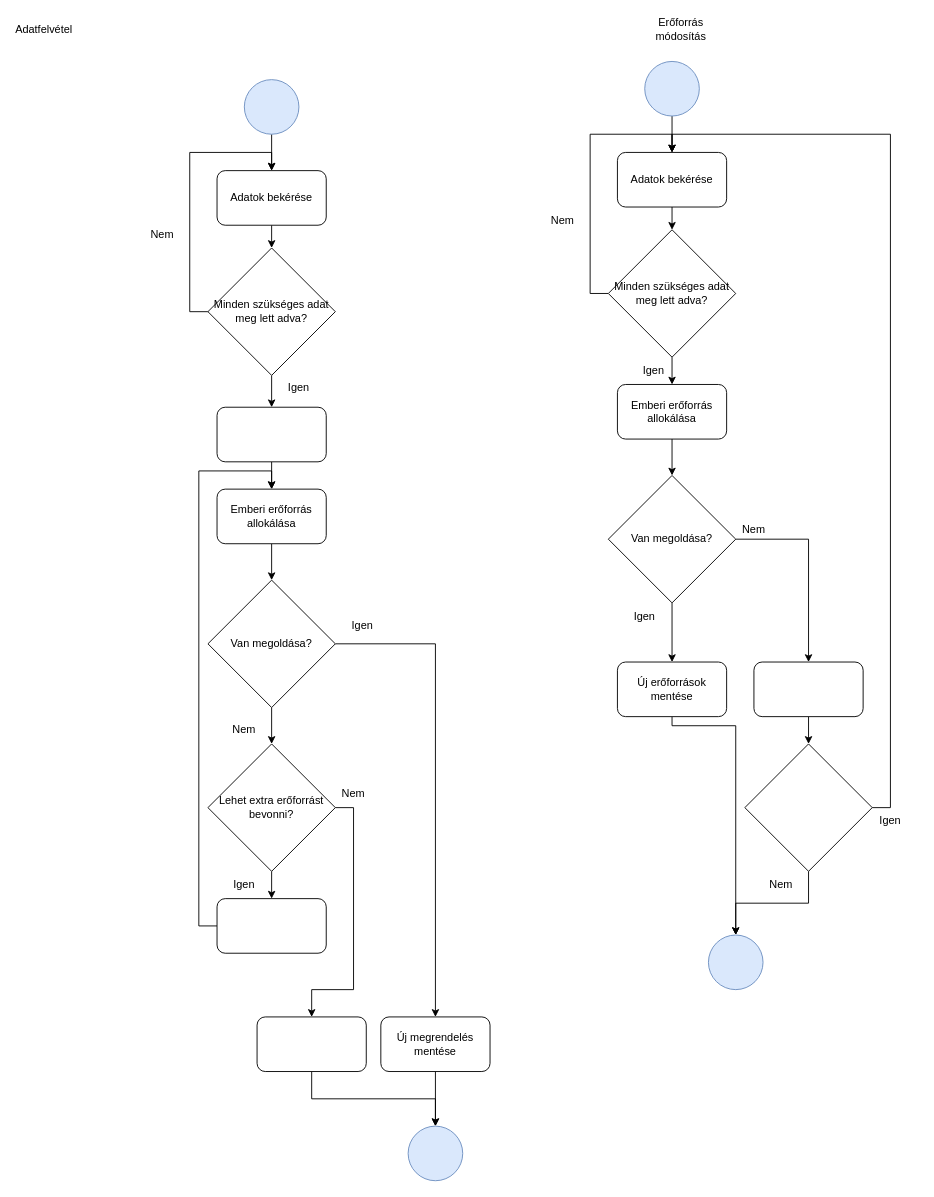
Some shapes in this 934 by 1197 pixel diagram are drawn without their labels. Here are the shapes that lost their labels. From the top down, the centre of each, then its label:
At point 271,434: "Adatdupliáció ellenőrzése az adatbázisban".
At point 808,689: "Figyelmeztetés küldése a hibáról".
At point 808,807: "Szükséges megoldást találni?".
At point 271,925: "Extra erőforrás felvitele".
At point 311,1044: "Megrendelés visszautasítása".
